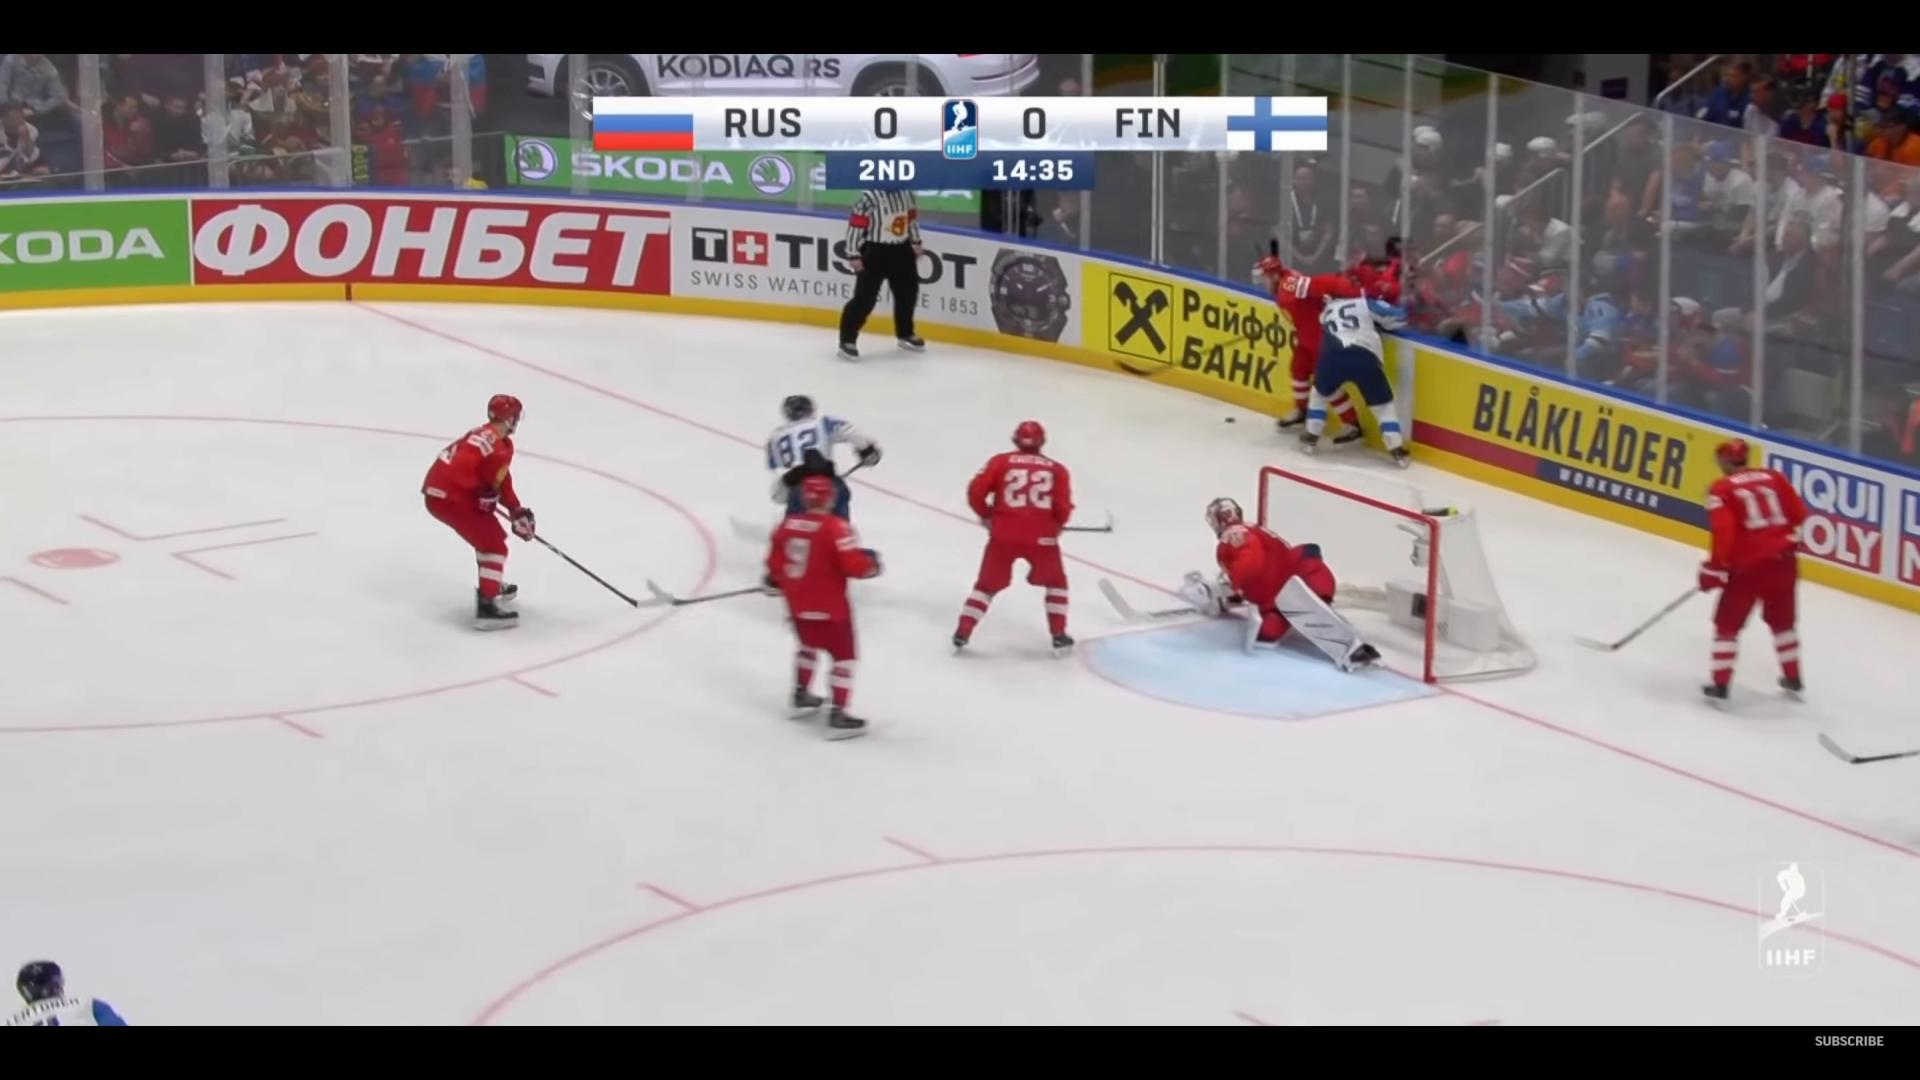puck: (1224, 416, 1236, 423)
